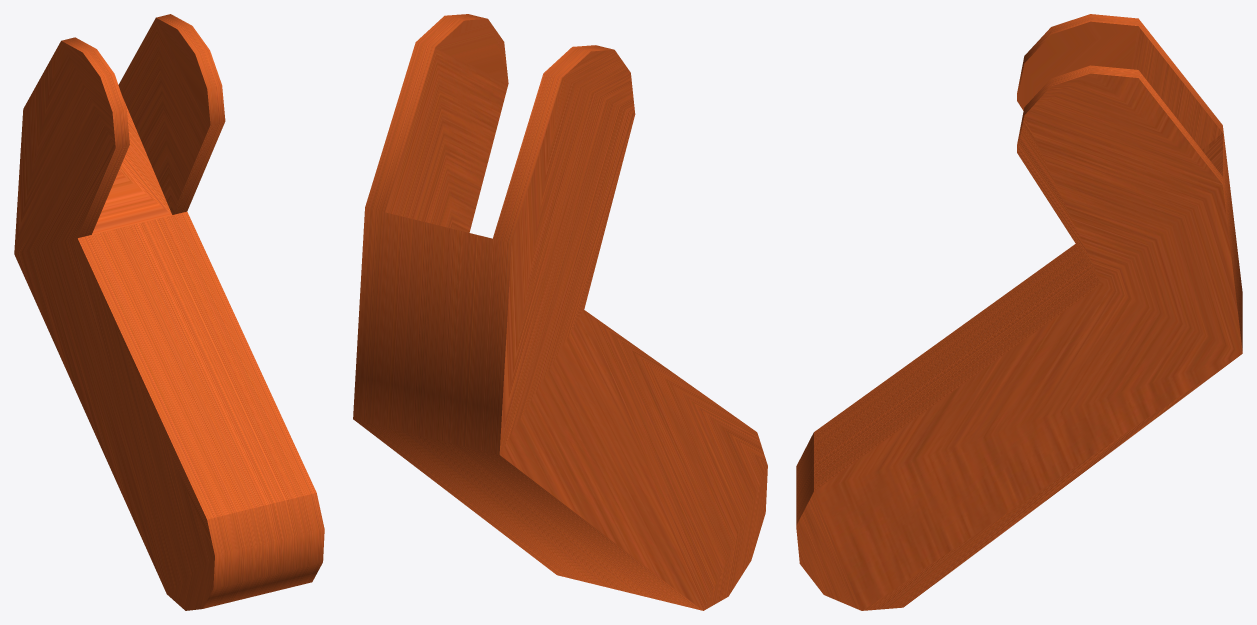
Rendered from ra_longArm.obj.
3 renders of one model, left to right at view 1: azimuth 30°, elevation 25°; view 2: azimuth 150°, elevation 25°; view 3: azimuth 270°, elevation 25°, orthographic. The views are drawn at different scales.
Parts seen in each view (by area): view 1: longArm; view 2: longArm; view 3: longArm.
Part boxes in pixels (x1,y1,x2,y2): longArm: (14,14,324,610); longArm: (353,14,767,610); longArm: (796,14,1242,610).
Bounding box in the file's own units: 16.59 × 69.83 × 52.6.
Materials: 1 (1 with a texture image).
